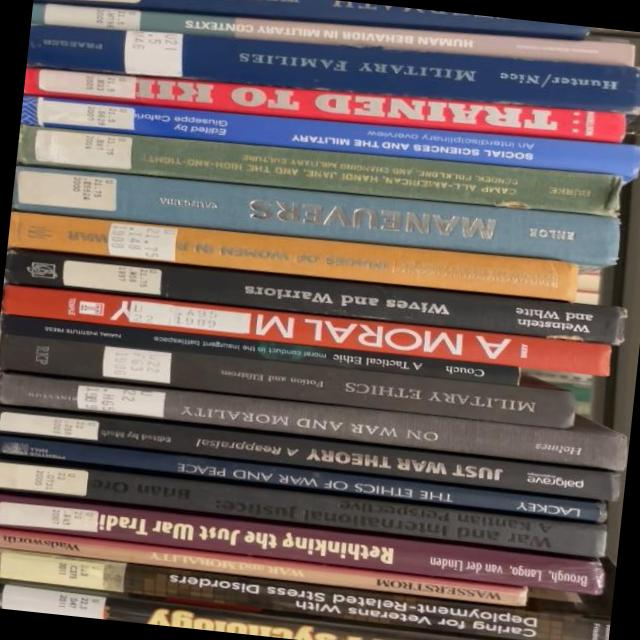book: (12, 159, 619, 266), (0, 491, 609, 596), (0, 369, 627, 470), (0, 403, 619, 502), (4, 247, 625, 345), (0, 459, 605, 557), (1, 281, 610, 377), (25, 21, 640, 114), (0, 548, 610, 640), (16, 124, 620, 216), (0, 333, 576, 429), (18, 95, 640, 182), (0, 433, 607, 522), (21, 93, 640, 176), (6, 211, 576, 301), (22, 66, 625, 144), (0, 527, 527, 608), (32, 1, 634, 66), (0, 314, 518, 386), (0, 580, 489, 640), (78, 0, 589, 53)
